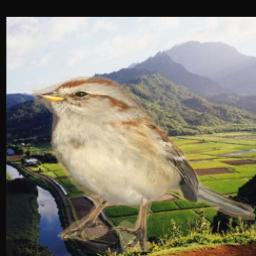Sparrow: (32, 77, 255, 253)
